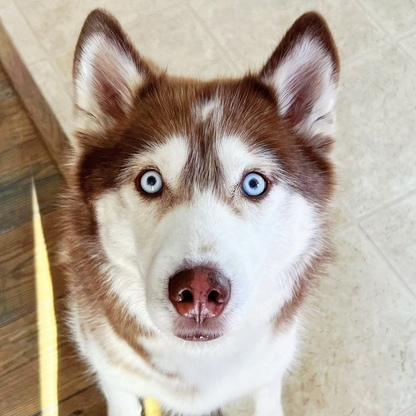husky: (49, 3, 351, 416)
